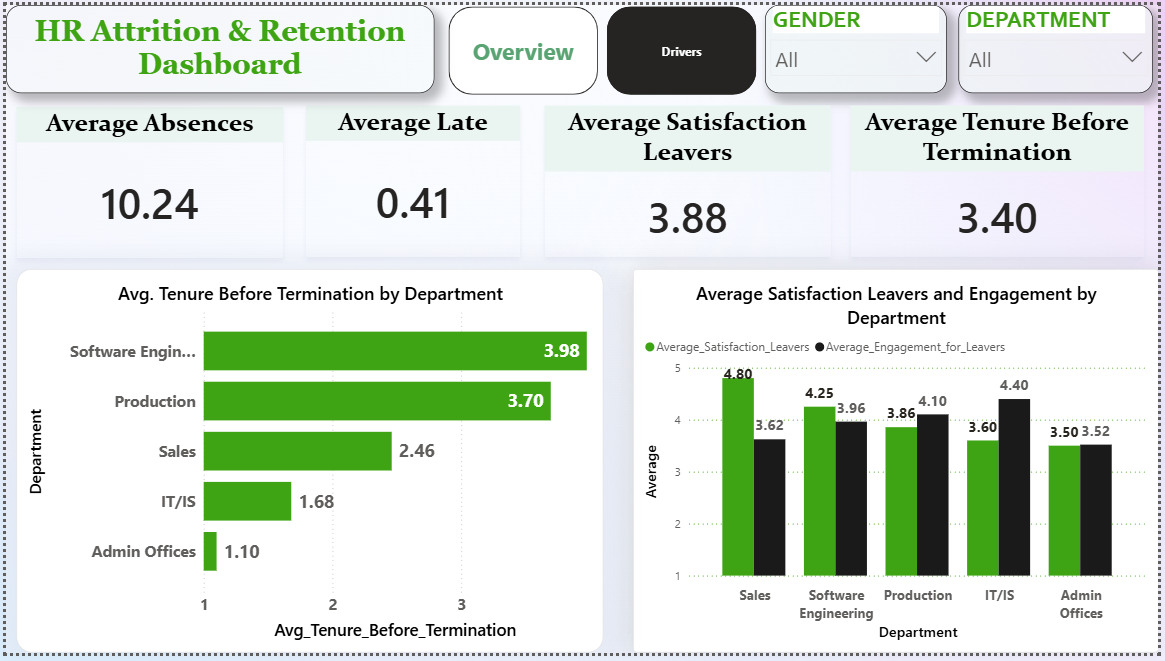

What the dashboard file says about the page in this screenshot:
{"tool":"powerbi","page":{"name":"Drivers ","canvas":[1280,720],"ordinal":1},"visuals":[{"type":"slicer","fields":{"Values":["HR.Sex"]},"box":[844,0,202,98],"z":1},{"type":"slicer","fields":{"Values":["HR.Department"]},"box":[1058,0,216,98],"z":2},{"type":"pageNavigator","box":[492,2,342,98],"z":3},{"type":"cardVisual","title":"Average Absences","fields":{"Data":["HR.Average_Absences"]},"box":[11.9,112.6,296.8,167.2],"z":4},{"type":"cardVisual","title":"Average Late","fields":{"Data":["HR.Average_Lates"]},"box":[334,112,238,168],"z":5},{"type":"cardVisual","title":"Average Satisfaction Leavers","fields":{"Data":["HR.Average_Satisfaction_Leavers"]},"box":[598,112,318,168],"z":6},{"type":"cardVisual","title":"Average Tenure Before Termination","fields":{"Data":["HR.Avg_Tenure_Before_Termination"]},"box":[938,112,326,168],"z":7},{"type":"clusteredColumnChart","title":"Average Satisfaction Leavers and Engagement by Department","fields":{"Y":["HR.Average_Satisfaction_Leavers","HR.Average_Engagement_for_Leavers"],"Category":["HR.Department"]},"box":[696,294,584,426],"z":9},{"type":"textbox","box":[0,0,476,98],"z":10},{"type":"clusteredBarChart","title":"Avg. Tenure Before Termination by Department","fields":{"Category":["HR.Department"],"Y":["HR.Avg_Tenure_Before_Termination"]},"box":[12,294,652,426],"z":11}]}

Visuals, with their boxes in screenshot pixels (x1, y1, x2, y2), scaled from the page's 1280x720 canvas onto the 1165x661 screenshot:
slicer - HR.Sex: [x1=768, y1=0, x2=952, y2=90]
slicer - HR.Department: [x1=963, y1=0, x2=1160, y2=90]
pageNavigator: [x1=448, y1=2, x2=759, y2=92]
"Average Absences" cardVisual: [x1=11, y1=103, x2=281, y2=257]
"Average Late" cardVisual: [x1=304, y1=103, x2=521, y2=257]
"Average Satisfaction Leavers" cardVisual: [x1=544, y1=103, x2=834, y2=257]
"Average Tenure Before Termination" cardVisual: [x1=854, y1=103, x2=1150, y2=257]
"Average Satisfaction Leavers and Engagement by Department" clusteredColumnChart: [x1=633, y1=270, x2=1164, y2=660]
textbox: [x1=0, y1=0, x2=433, y2=90]
"Avg. Tenure Before Termination by Department" clusteredBarChart: [x1=11, y1=270, x2=604, y2=660]
